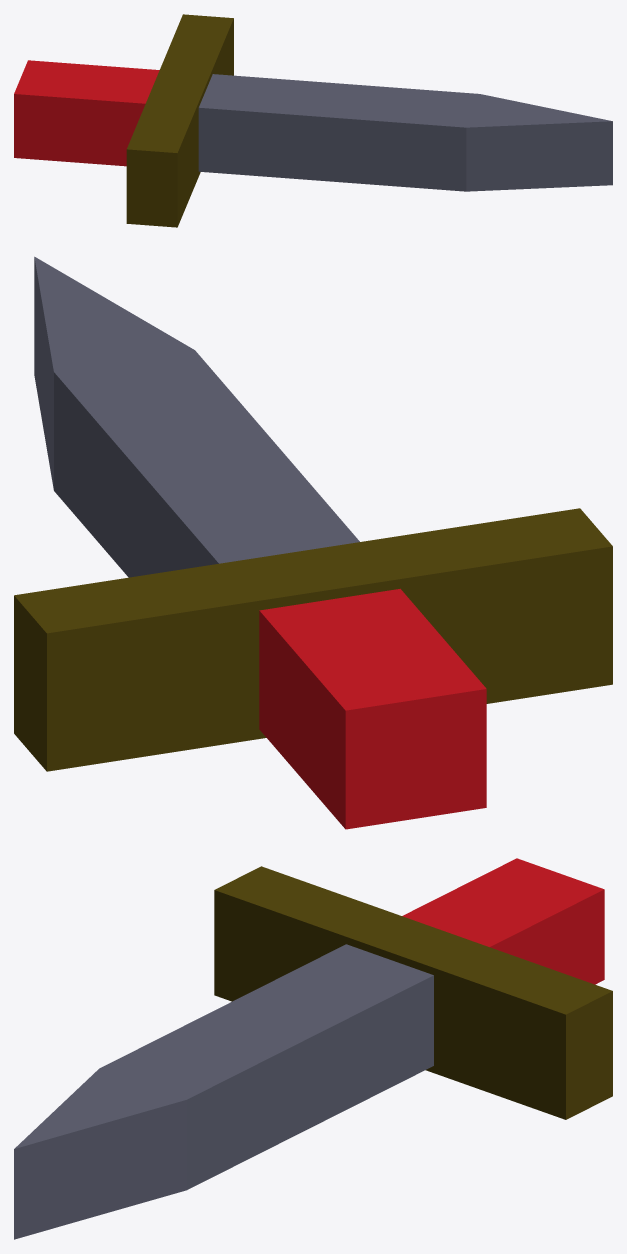
File: Weapon.obj
3 views of the same model, one above another, from view 1: azimuth 30°, elevation 25°; view 2: azimuth 150°, elevation 25°; view 3: azimuth 270°, elevation 25° (orthographic). The views are drawn at different scales.
Visible parts, largest first — view 1: 立方体, 立方体.001; view 2: 立方体, 立方体.001; view 3: 立方体, 立方体.001.
Boxes of the visible parts, <box> form: 立方体: <box>14,60,612,191</box>; 立方体.001: <box>126,14,233,227</box>; 立方体: <box>34,256,486,829</box>; 立方体.001: <box>14,508,612,771</box>; 立方体: <box>14,858,604,1239</box>; 立方体.001: <box>214,866,612,1119</box>.
Bounding box in the file's own units: 1.61 × 0.2727 × 1.41.
